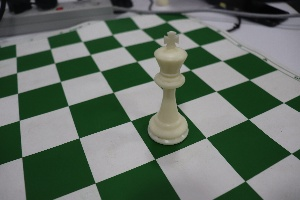white_king: (148, 16, 196, 149)
